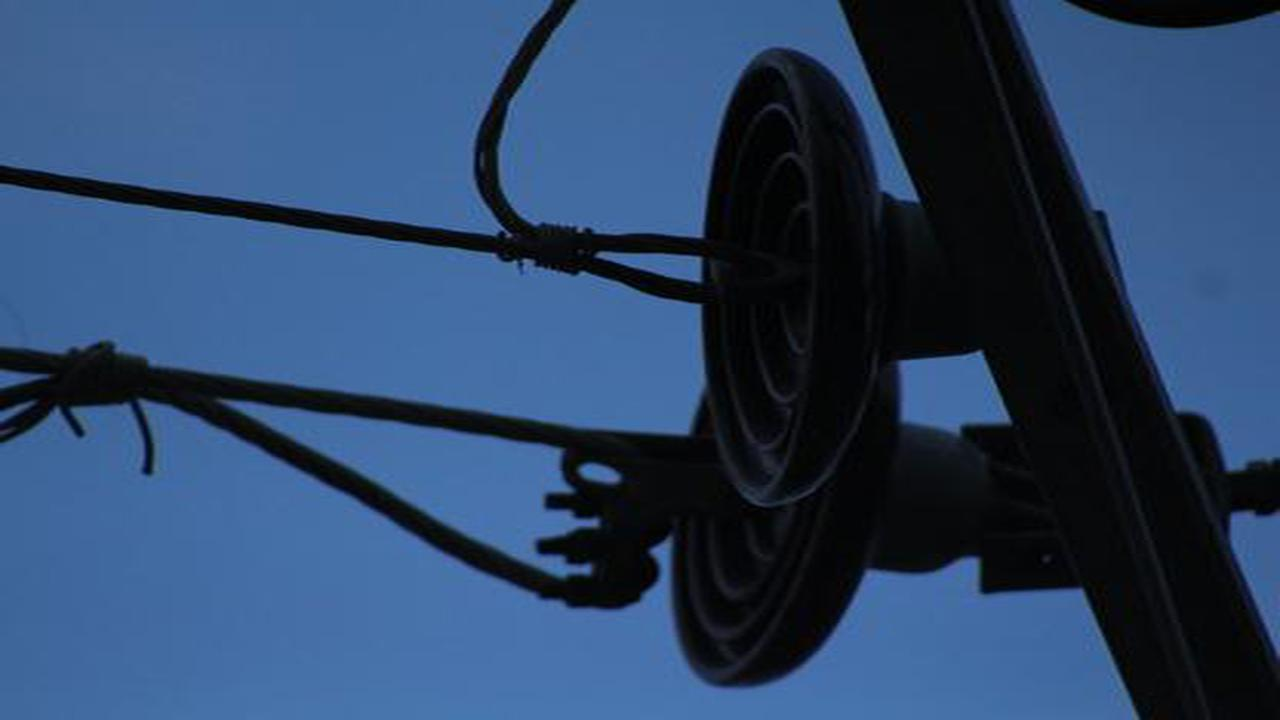insulator_disc: (690, 42, 930, 516), (669, 384, 955, 698)
